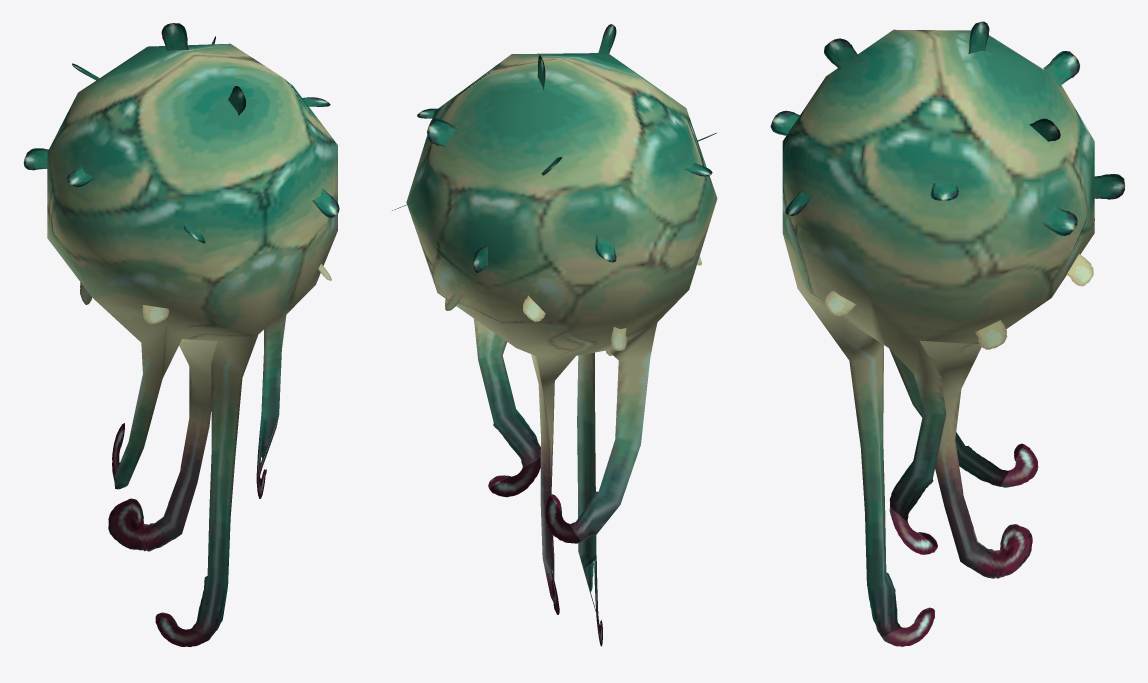
The model's file is fungus_spore01_e2eac3ea.glb.
3 renders of one model, left to right at view 1: azimuth 30°, elevation 25°; view 2: azimuth 150°, elevation 25°; view 3: azimuth 270°, elevation 25°, orthographic. The views are drawn at different scales.
Size of the model in its own units: 0.5376 by 1.12 by 0.569.
Materials: 1 (1 with a texture image).
